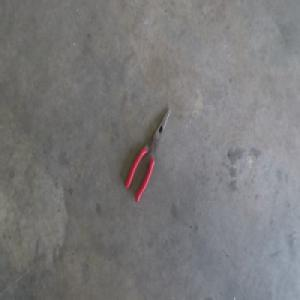Pliers: (125, 107, 171, 202)
